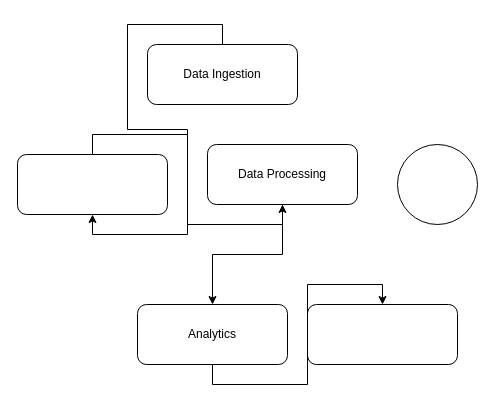
This 495x410 diagram has some shape labels left out. Each missing label, with the centre of its shape:
Data Storage: (92,184)
Visualization: (382,334)
